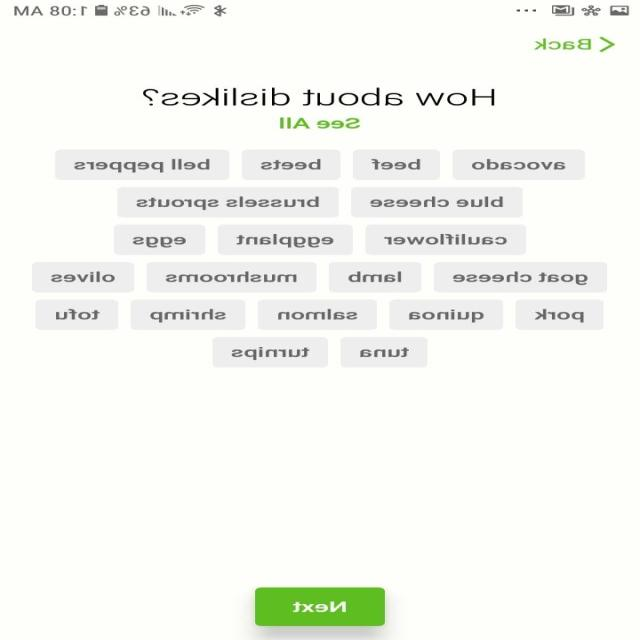Icon: (598, 36, 615, 53)
Text: (143, 87, 495, 106), (280, 117, 361, 129), (534, 38, 592, 50)
TextButton: (118, 186, 340, 218), (351, 186, 524, 218), (55, 149, 230, 180), (434, 262, 608, 292), (365, 224, 527, 256), (146, 262, 318, 292), (255, 587, 386, 626), (218, 224, 354, 255), (452, 149, 586, 180), (258, 299, 378, 330), (130, 299, 247, 330), (212, 336, 329, 367), (389, 299, 504, 330), (242, 149, 342, 180), (33, 262, 136, 292), (114, 224, 206, 255), (329, 262, 422, 292), (353, 149, 441, 180), (516, 299, 604, 330), (341, 337, 428, 368), (36, 299, 120, 330)
